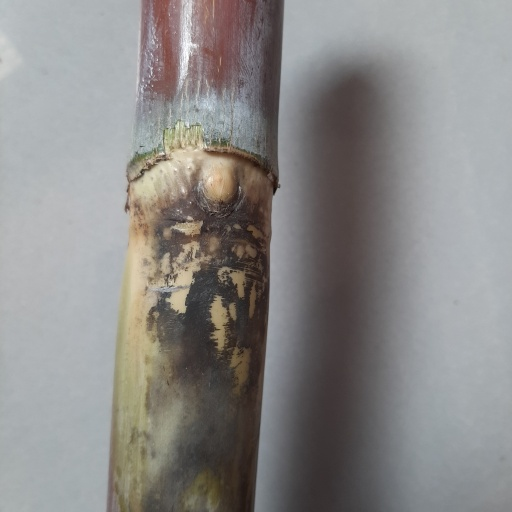Bud: (200, 160, 241, 203)
